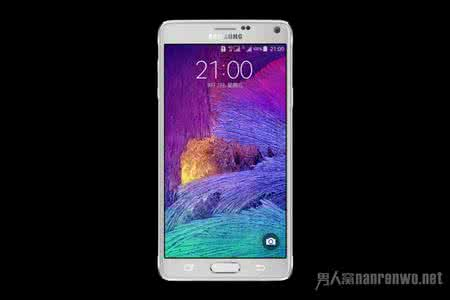phone: (158, 19, 296, 284)
